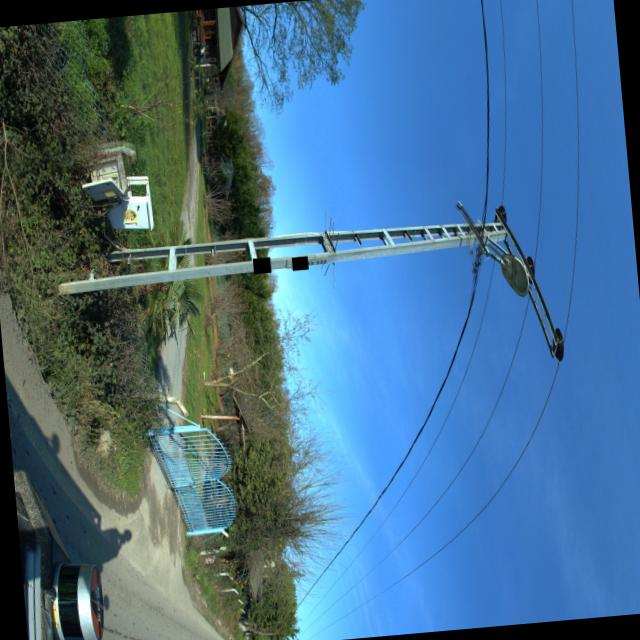Utility Pole Information Plate: (252, 257, 269, 274), (291, 257, 306, 270)
